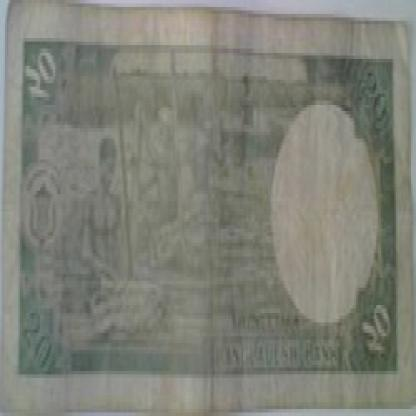Twenty: (20, 45, 80, 128), (356, 295, 404, 371)
